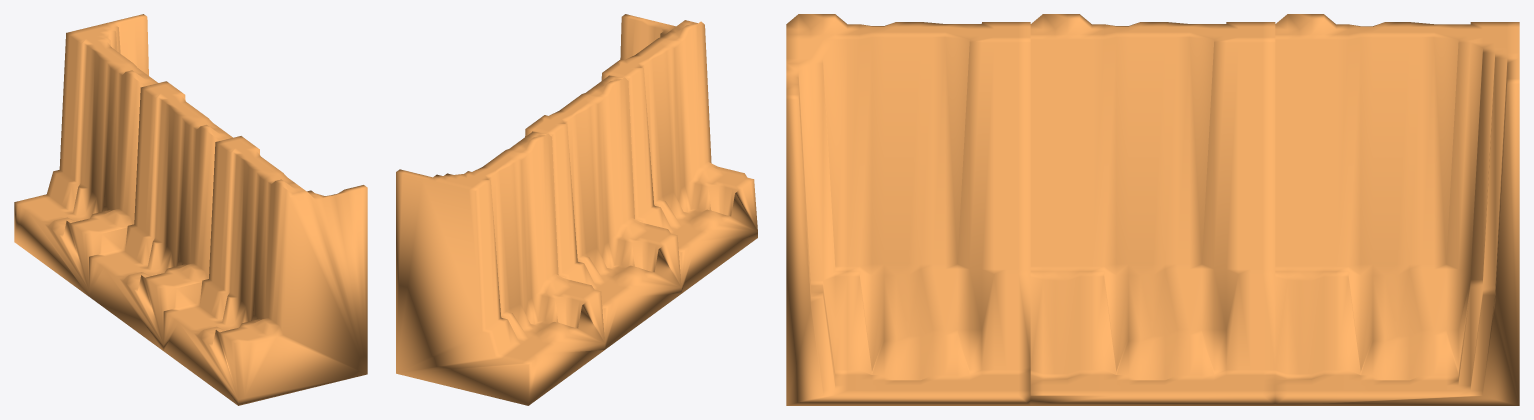
File: deadWall.fbx
3 views of the same model, side by side, from view 1: azimuth 30°, elevation 25°; view 2: azimuth 150°, elevation 25°; view 3: azimuth 270°, elevation 25° (orthographic). The views are drawn at different scales.
Parts seen in each view (by area): view 1: Group1; view 2: Group1; view 3: Group1.
Part boxes in pixels (left/top/right/bottom): Group1: left=14, top=14, right=367, bottom=405; Group1: left=396, top=14, right=757, bottom=405; Group1: left=786, top=14, right=1519, bottom=405.
Size of the model in its own units: 1000 by 1490 by 3000.
